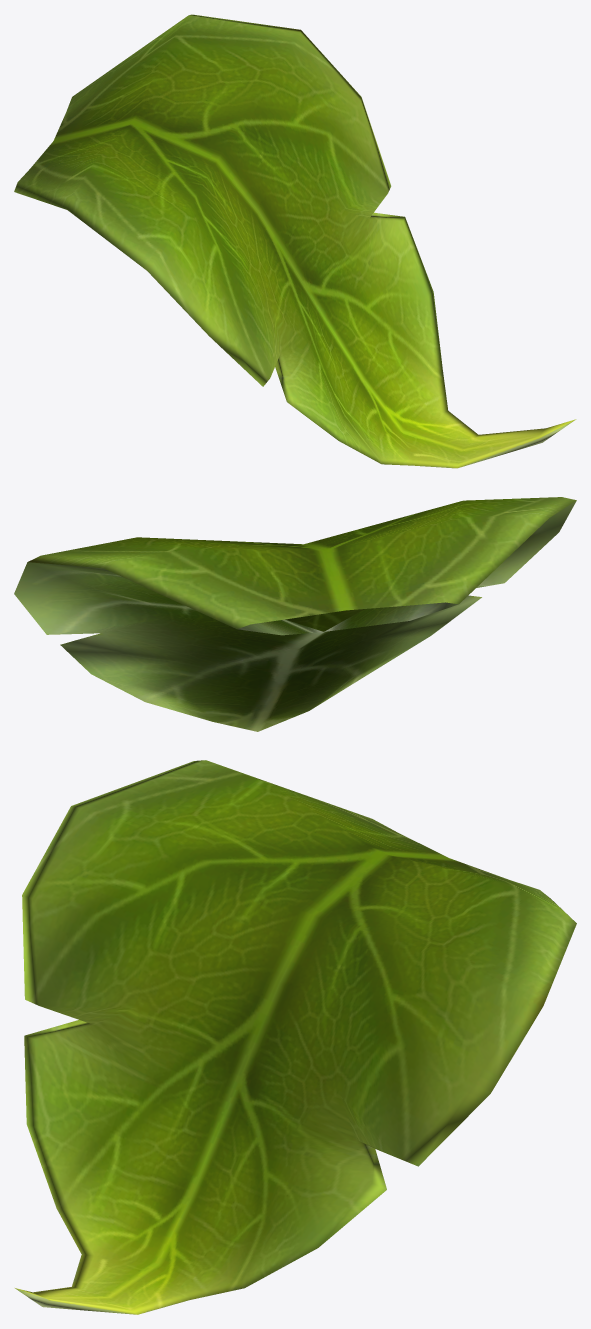
File: sunflower2_hoja_del_izq.obj
The picture shows the model from 3 angles, top to bottom: view 1: azimuth 30°, elevation 25°; view 2: azimuth 150°, elevation 25°; view 3: azimuth 270°, elevation 25°; orthographic projection. The views are drawn at different scales.
Visible parts, largest first — view 1: sunflower2_hoja_del_izq; view 2: sunflower2_hoja_del_izq; view 3: sunflower2_hoja_del_izq.
Part boxes in pixels (x1=…): sunflower2_hoja_del_izq: x1=14, y1=14, x2=576, y2=468; sunflower2_hoja_del_izq: x1=14, y1=497, x2=576, y2=731; sunflower2_hoja_del_izq: x1=15, y1=760, x2=576, y2=1314.
Size of the model in its own units: 0.3894 by 0.2802 by 0.3901.
